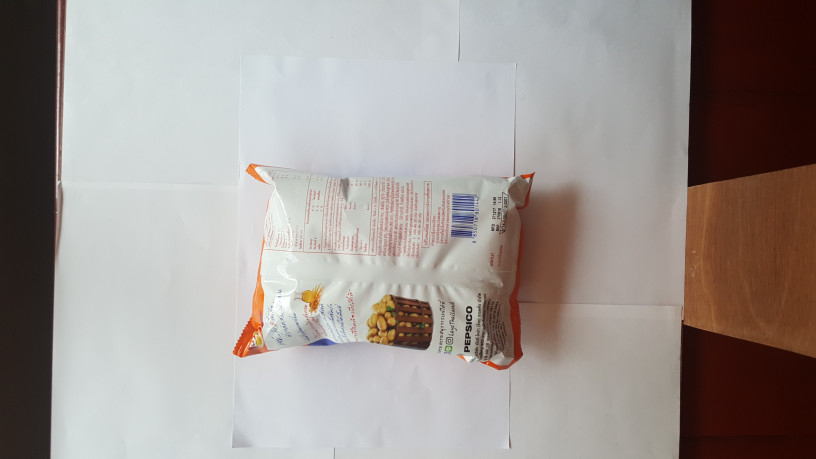lays-bbq: (220, 157, 543, 374)
